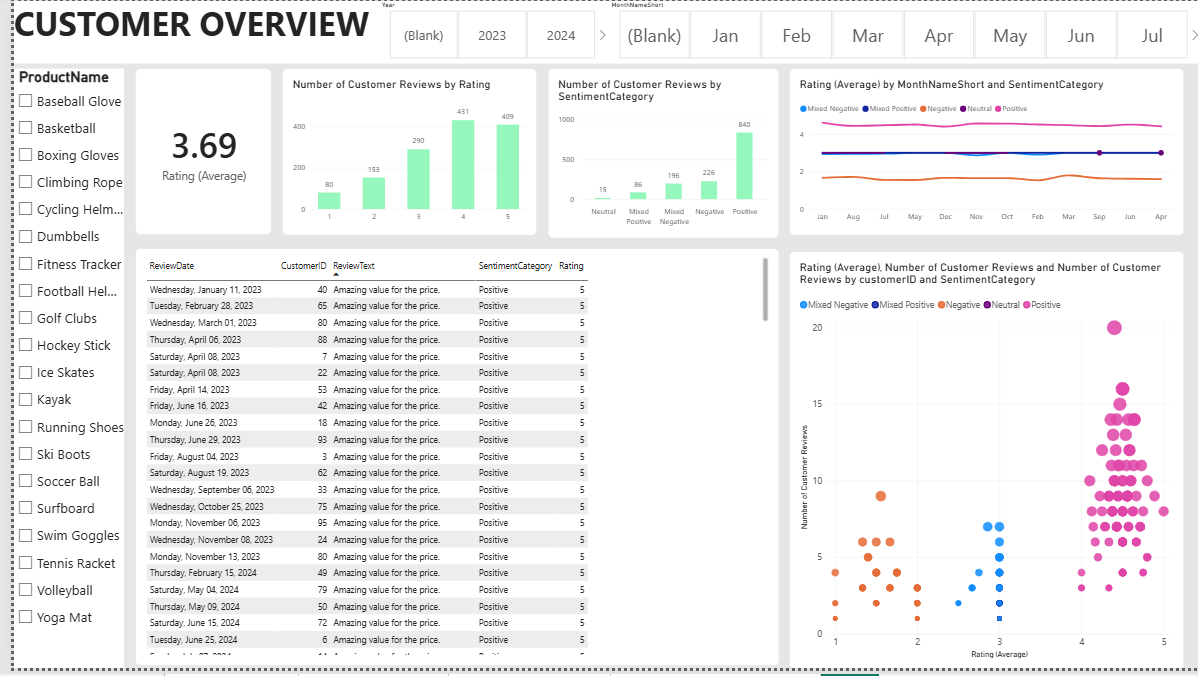

This screenshot's page, from the dashboard's own definition file:
{"tool":"powerbi","page":{"name":"Customer Reviews ","canvas":[1920,1080],"ordinal":3},"visuals":[{"type":"textbox","box":[0,0,1919.2,101.5],"z":0},{"type":"slicer","fields":{"Values":["dm_products.ProductName"]},"box":[0,109,178.3,970.7],"z":1000},{"type":"textbox","box":[178.3,624,237.7,227.8],"z":2000},{"type":"textbox","box":[505.2,109,260,309.5],"z":5000},{"type":"cardVisual","fields":{"Data":["_Calculations.Rating (Average)"]},"box":[195.6,109,220.4,269.9],"z":11000},{"type":"slicer","fields":{"Values":["Calendar.Year"]},"box":[587.8,0,371.6,94.7],"z":12000},{"type":"slicer","fields":{"Values":["Calendar.MonthNameShort"]},"box":[959.4,0,959.4,94.7],"z":13000},{"type":"tableEx","fields":{"Values":["fact_customer_reviews_with_sentiment.ReviewDate","fact_customer_reviews_with_sentiment.CustomerID","fact_customer_reviews_with_sentiment.ReviewText","fact_customer_reviews_with_sentiment.SentimentCategory","fact_customer_reviews_with_sentiment.Rating"]},"box":[196.7,400.8,1042,675.2],"z":18000},{"type":"scatterChart","fields":{"Category":["dim_customers.customerID"],"Series":["fact_customer_reviews_with_sentiment.SentimentCategory"],"Size":["_Calculations.Number of Customer Reviews"],"X":["_Calculations.Rating (Average)"],"Y":["_Calculations.Number of Customer Reviews"]},"box":[1255.7,405.6,638.9,676],"z":19000},{"type":"columnChart","fields":{"Category":["fact_customer_reviews_with_sentiment.Rating"],"Y":["_Calculations.Number of Customer Reviews"]},"box":[435.8,109,411.1,269.9],"z":19001},{"type":"columnChart","fields":{"Category":["fact_customer_reviews_with_sentiment.SentimentCategory"],"Y":["_Calculations.Number of Customer Reviews"]},"box":[864.3,109,373.9,274.9],"z":19002},{"type":"lineChart","fields":{"Category":["Calendar.MonthNameShort"],"Series":["fact_customer_reviews_with_sentiment.SentimentCategory"],"Y":["_Calculations.Rating (Average)"]},"box":[1255.5,109,638.9,269.9],"z":19003}]}

Visuals, with their boxes in screenshot pixels (x1, y1, x2, y2), scaled from the page's 1920x1080 canvas onto the 1198x676 screenshot:
textbox: <box>0,0,1197,64</box>
slicer - dm_products.ProductName: <box>0,68,111,675</box>
textbox: <box>111,391,260,533</box>
textbox: <box>315,68,477,262</box>
cardVisual - _Calculations.Rating (Average): <box>122,68,260,237</box>
slicer - Calendar.Year: <box>367,0,599,59</box>
slicer - Calendar.MonthNameShort: <box>599,0,1197,59</box>
tableEx - fact_customer_reviews_with_sentiment.ReviewDate x fact_customer_reviews_with_sentiment.CustomerID: <box>123,251,773,673</box>
scatterChart - dim_customers.customerID x fact_customer_reviews_with_sentiment.SentimentCategory: <box>784,254,1182,675</box>
columnChart - fact_customer_reviews_with_sentiment.Rating x _Calculations.Number of Customer Reviews: <box>272,68,528,237</box>
columnChart - fact_customer_reviews_with_sentiment.SentimentCategory x _Calculations.Number of Customer Reviews: <box>539,68,773,240</box>
lineChart - Calendar.MonthNameShort x fact_customer_reviews_with_sentiment.SentimentCategory: <box>783,68,1182,237</box>
